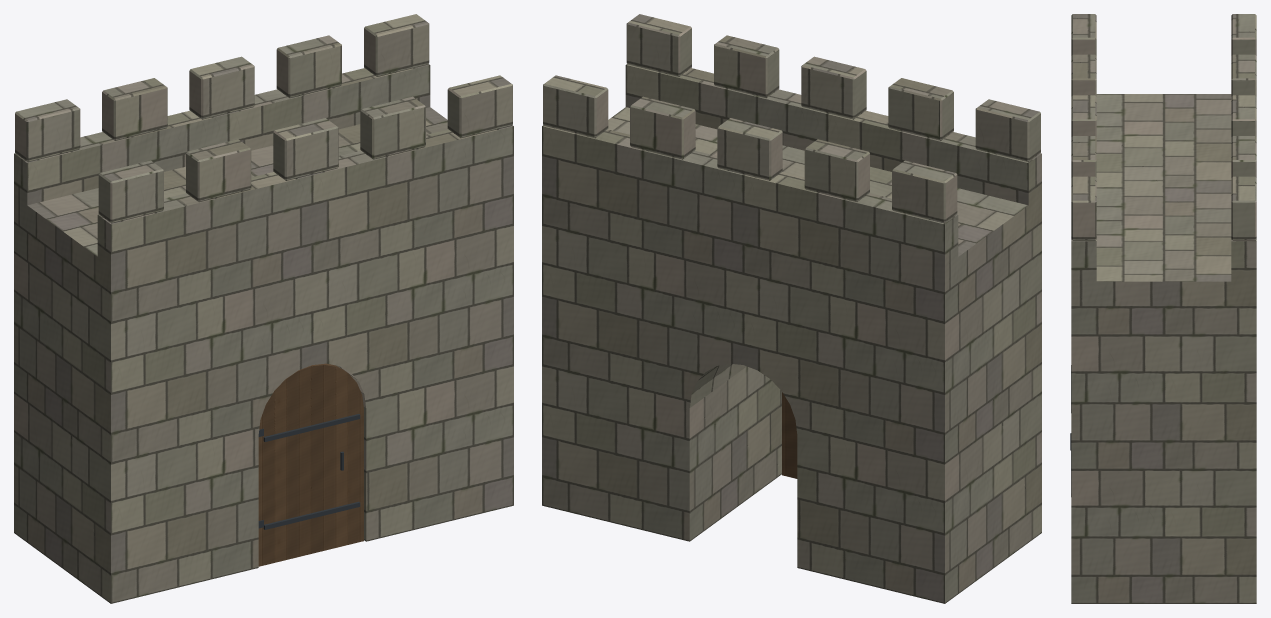
File: Furn_Postern.fbx
3 renders of one model, left to right at view 1: azimuth 30°, elevation 25°; view 2: azimuth 150°, elevation 25°; view 3: azimuth 270°, elevation 25°, orthographic. The views are drawn at different scales.
Parts seen in each view (by area): view 1: Furn_Postern_Mesh; view 2: Furn_Postern_Mesh; view 3: Furn_Postern_Mesh.
Part boxes in pixels (x1=…): Furn_Postern_Mesh: x1=14, y1=14, x2=513, y2=603; Furn_Postern_Mesh: x1=542, y1=14, x2=1041, y2=603; Furn_Postern_Mesh: x1=1070, y1=14, x2=1256, y2=603.
Size of the model in its own units: 6 by 6 by 2.52.
